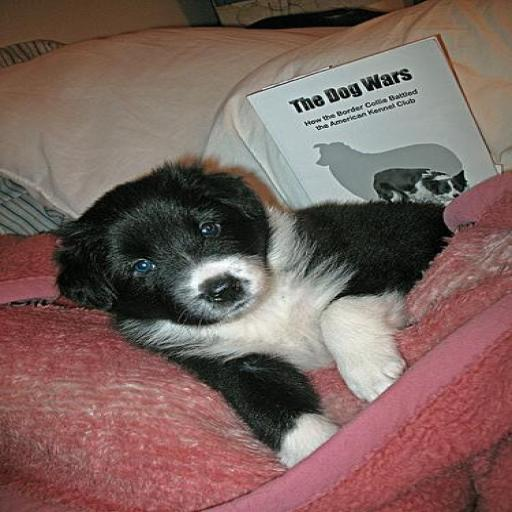dog_face: (49, 162, 290, 332)
